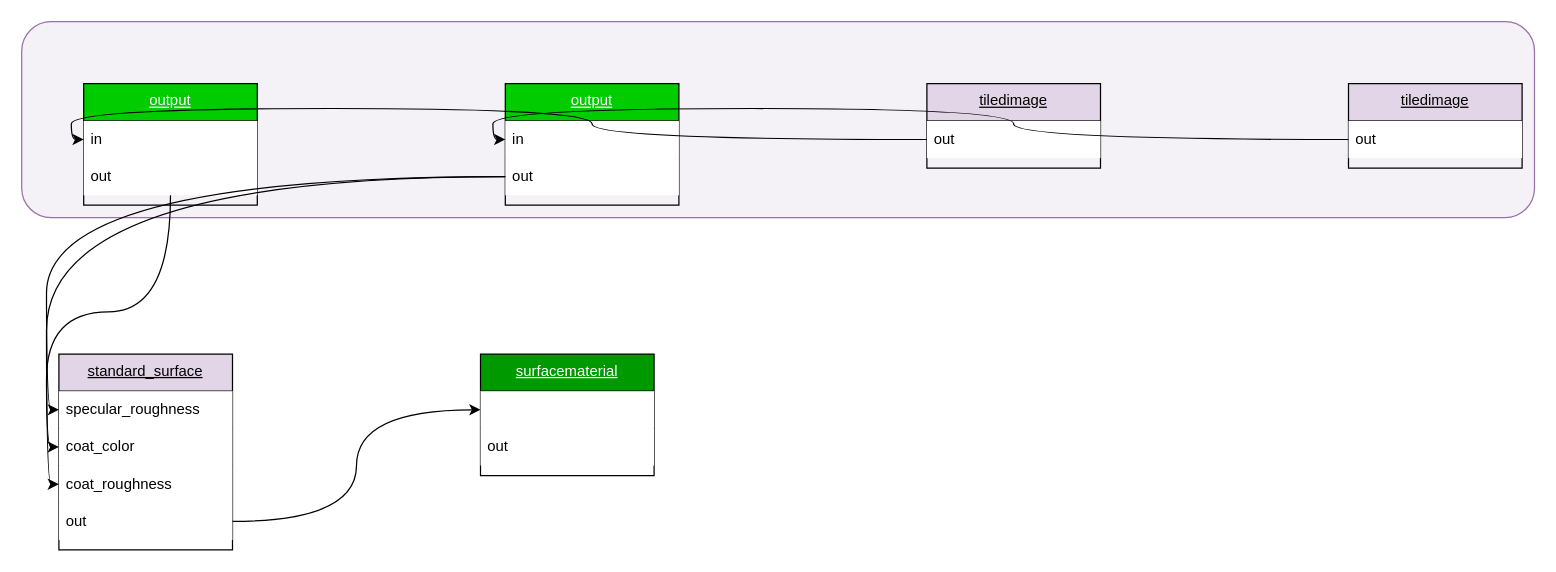
Image size: 1556x572. Some labels were removed from this diagram. The shapes that lost their labels are listed below. From the top down, each one's centre as x and y in pixels, then its label:
(777,119): NG_brass1
(566,409): surfaceshader
